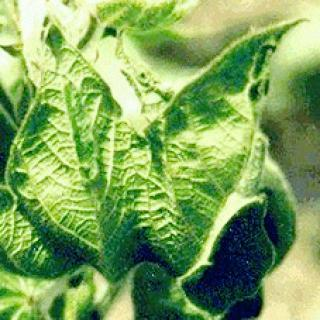curl: (5, 28, 279, 284)
